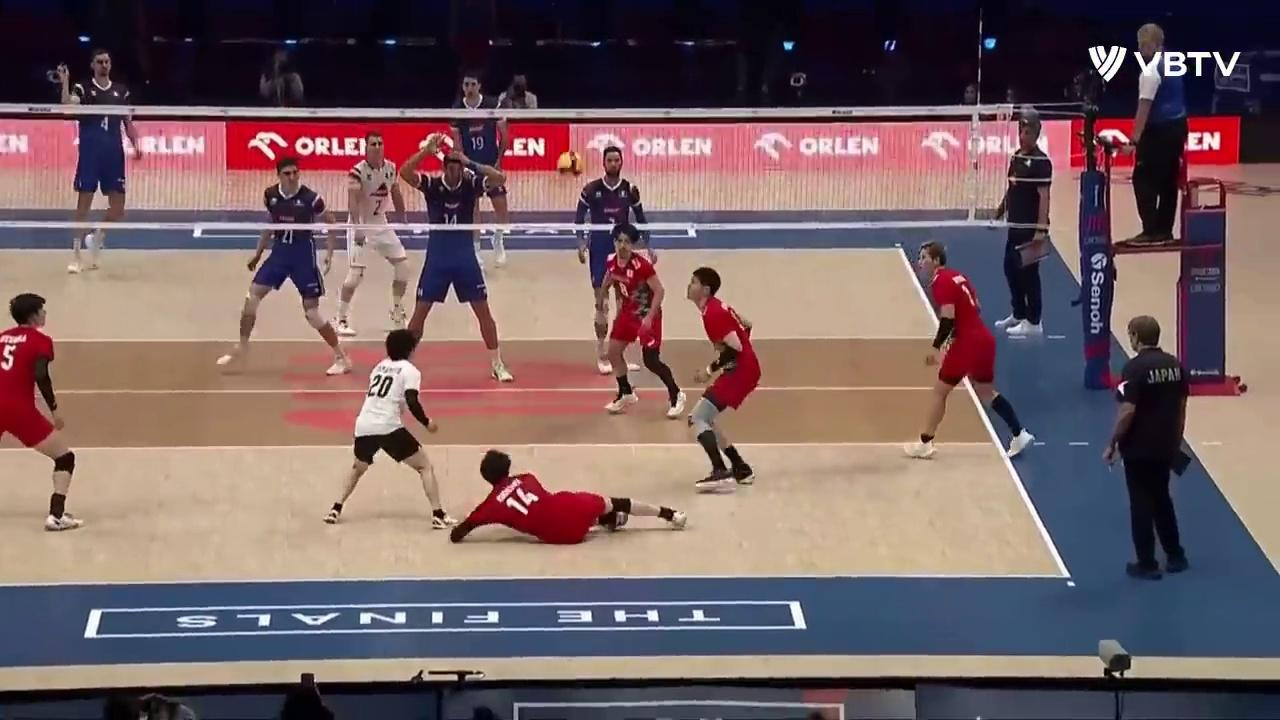ball: (558, 152, 582, 179)
